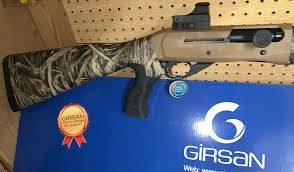gun: (2, 2, 292, 119)
